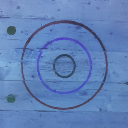Axe Tip: (125, 82, 128, 84)
